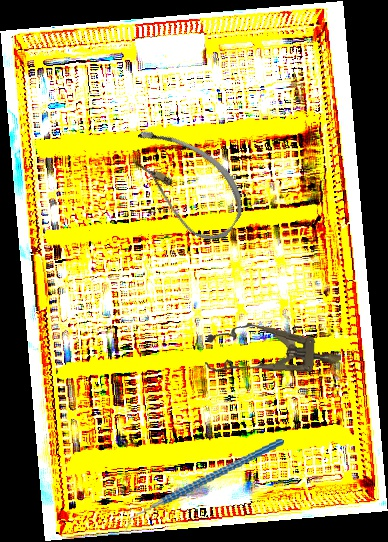Cannula: (109, 114, 260, 252)
Chopper: (113, 438, 294, 533)
Speculum: (204, 319, 344, 386)
